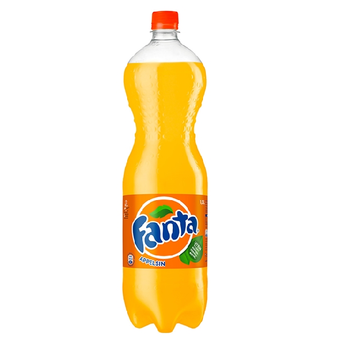fanta_bottle: (123, 11, 209, 333)
